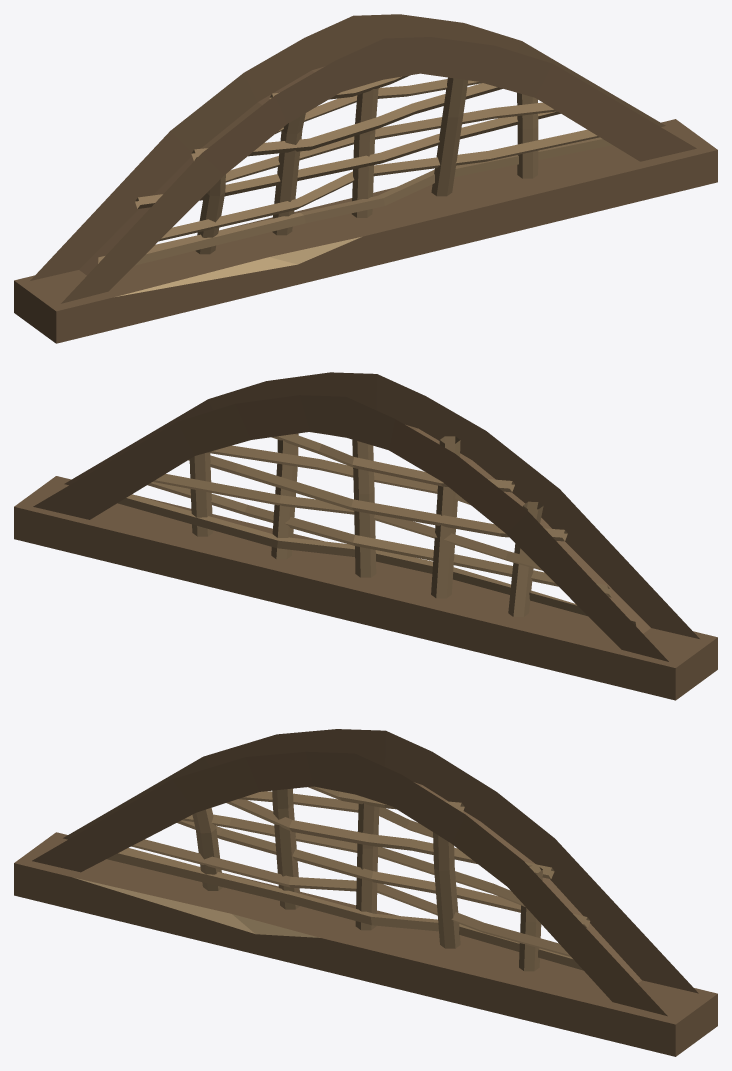
The model's file is rpgpp_ag_roof_02_end_03_window_01b.fbx.
The picture shows the model from 3 angles, top to bottom: view 1: azimuth 30°, elevation 25°; view 2: azimuth 150°, elevation 25°; view 3: azimuth 330°, elevation 25°; orthographic projection.
Visible parts, largest first — view 1: rpgpp_ag_roof_02_end_03_window_01b; view 2: rpgpp_ag_roof_02_end_03_window_01b; view 3: rpgpp_ag_roof_02_end_03_window_01b.
Part boxes in pixels (bbox=[...]): rpgpp_ag_roof_02_end_03_window_01b: bbox=[14, 14, 717, 343]; rpgpp_ag_roof_02_end_03_window_01b: bbox=[14, 372, 717, 700]; rpgpp_ag_roof_02_end_03_window_01b: bbox=[14, 729, 717, 1056].
Bounding box in the file's own units: 5.23 × 1.65 × 0.5785.
